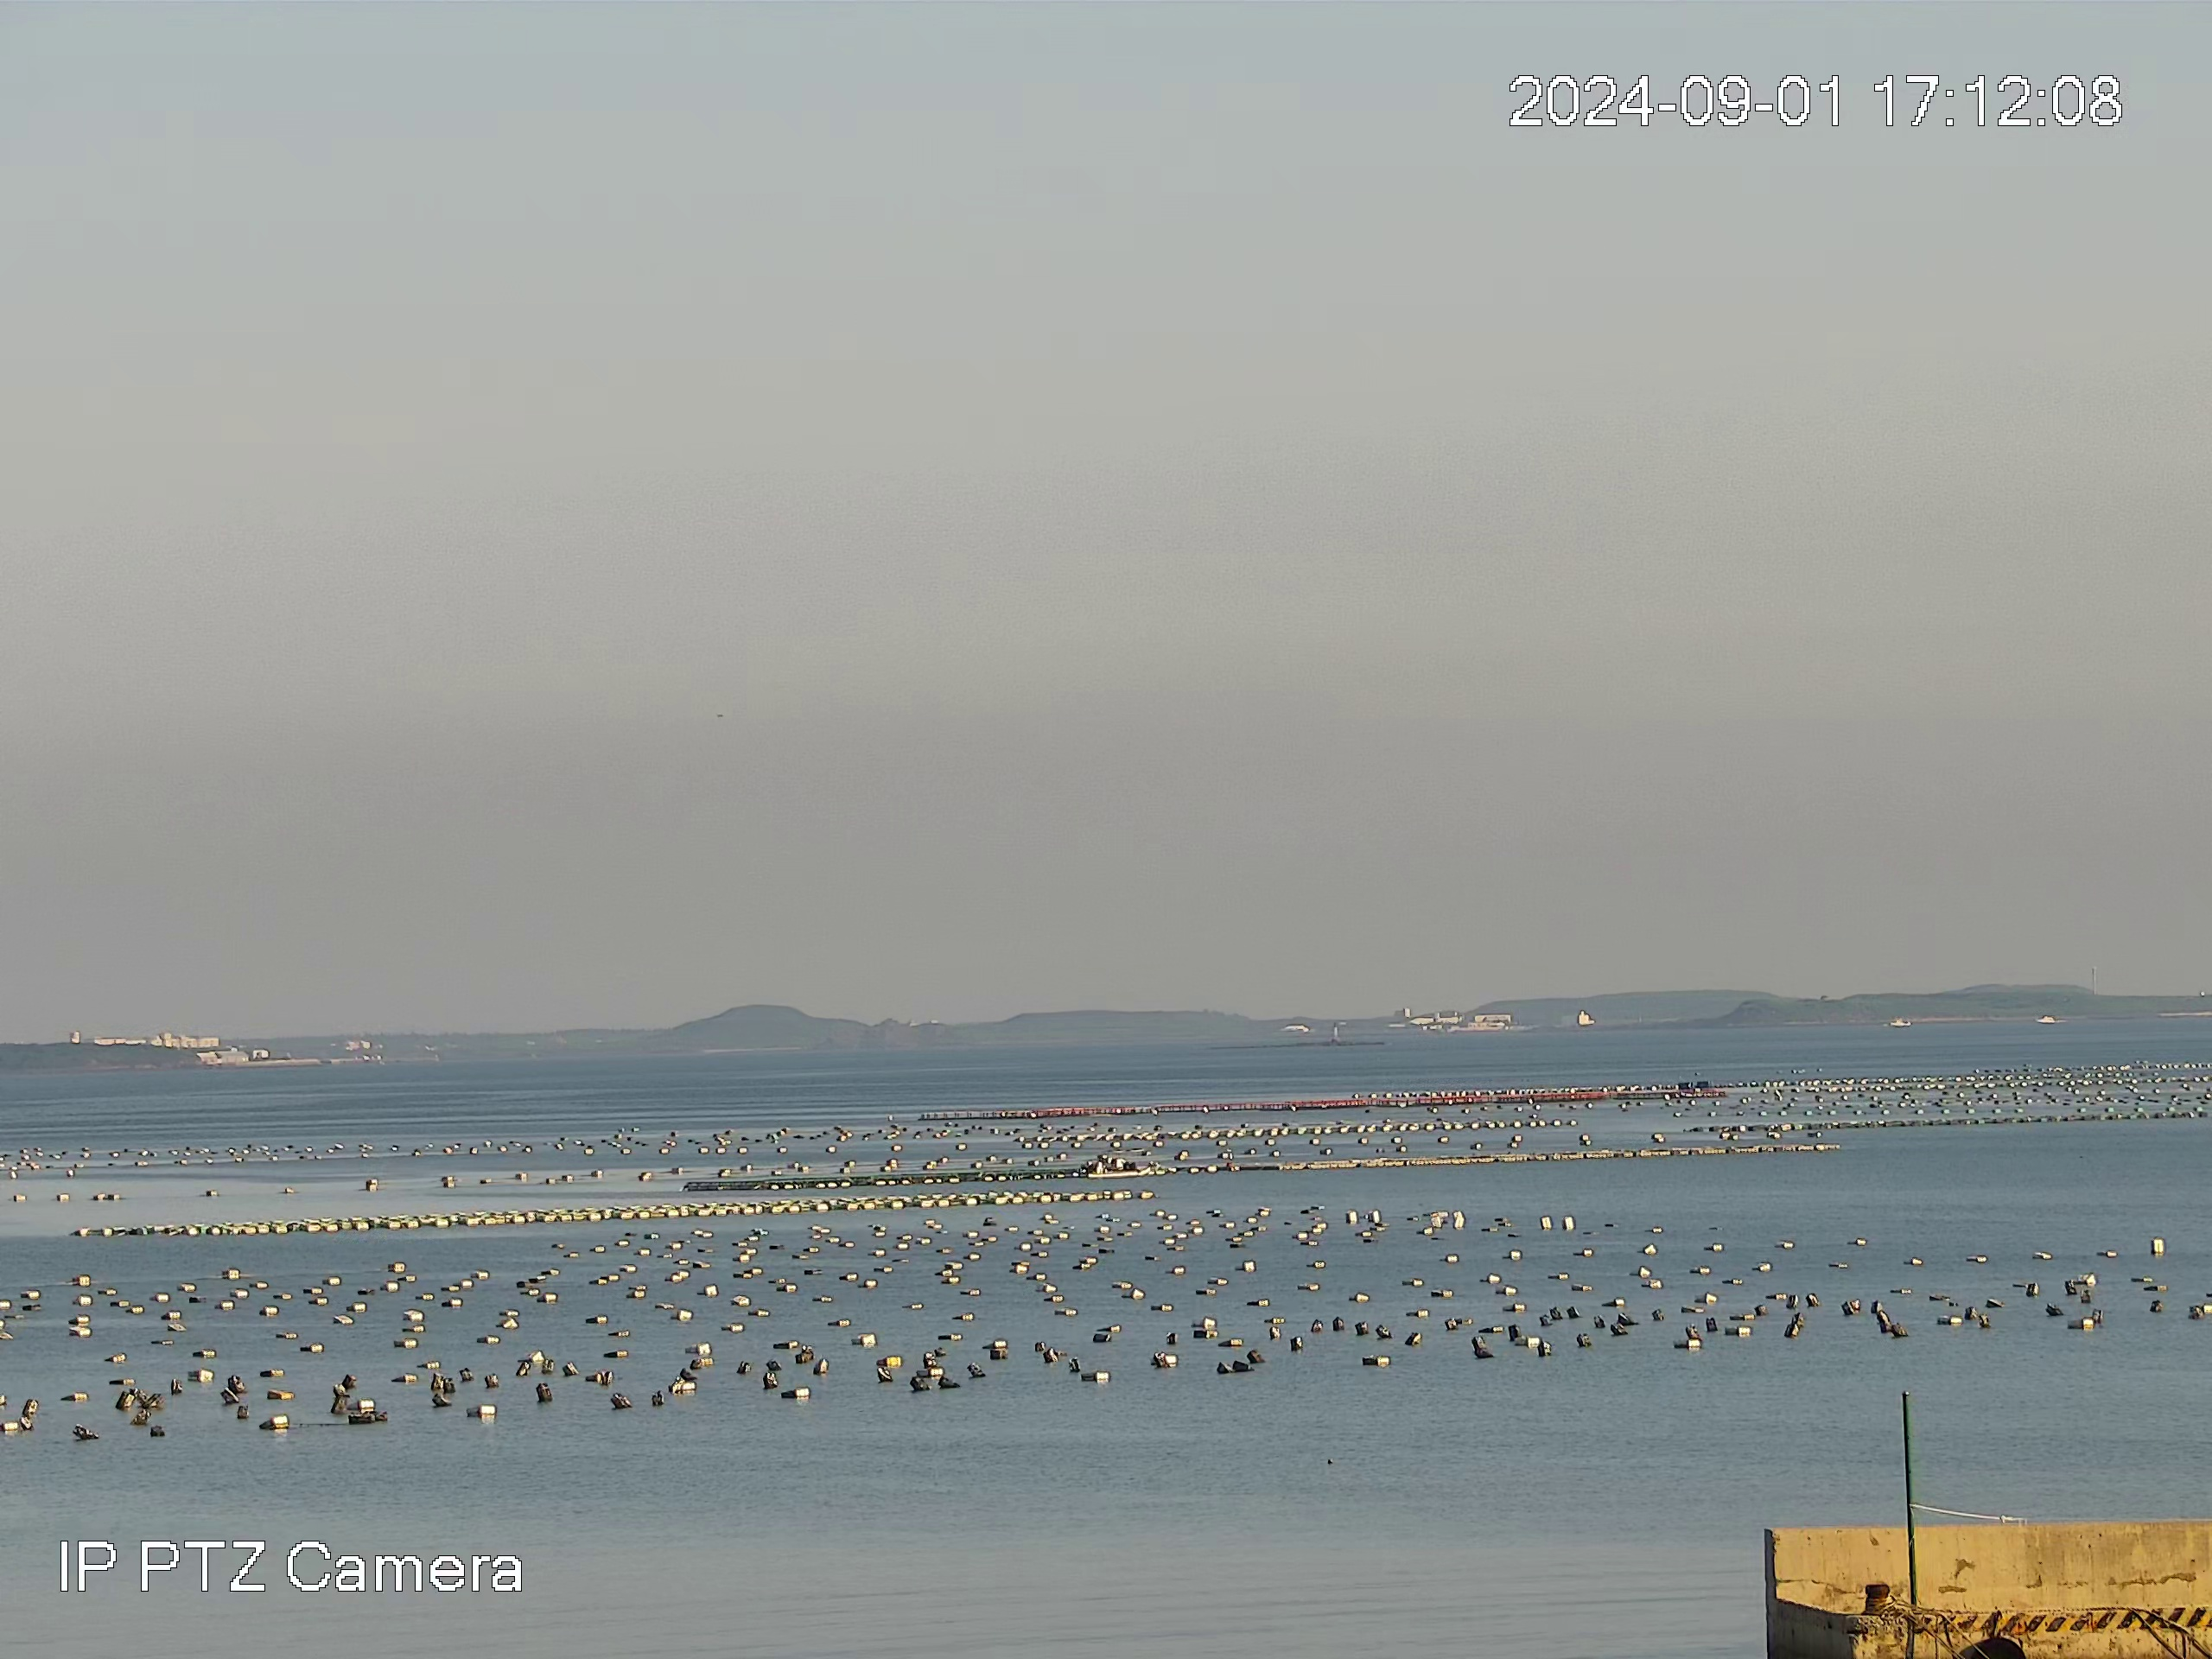boat: (1094, 1154, 1151, 1175)
